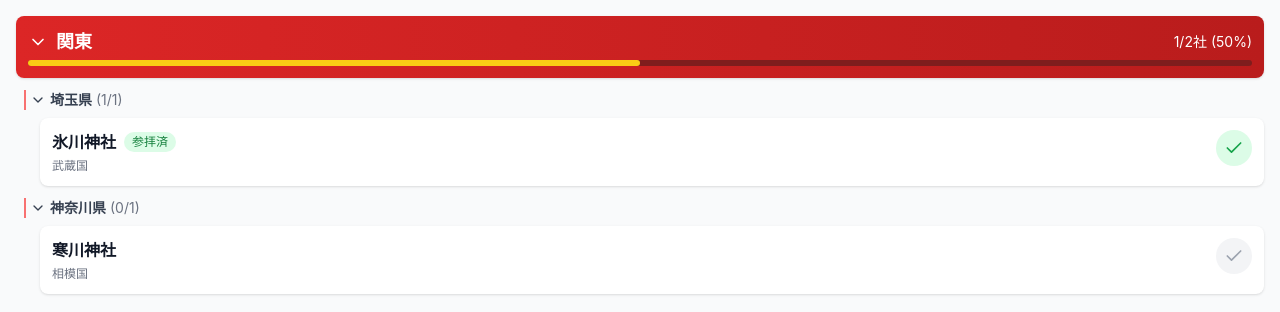
it: ShrineListView – prefecture collapse › clicking prefecture header hides shrine list
Click the text "埼玉県".
click(71, 100)  # box [50,90,92,110]
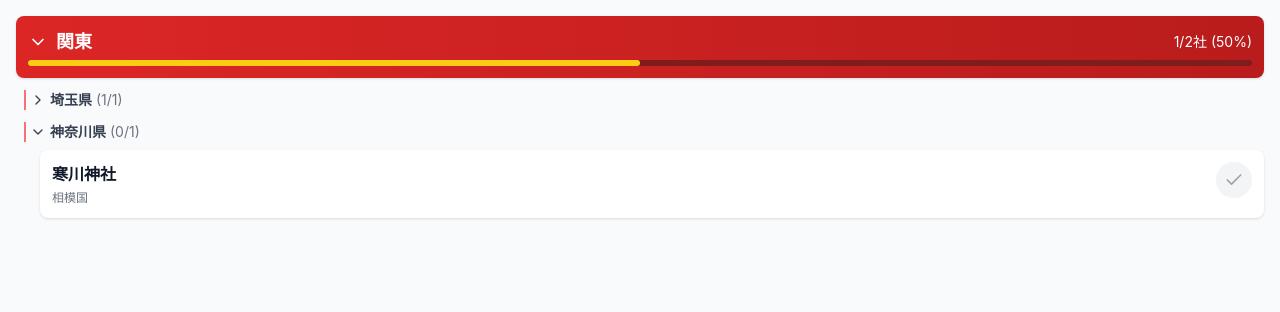
Expected: the heading "氷川神社" is gone
